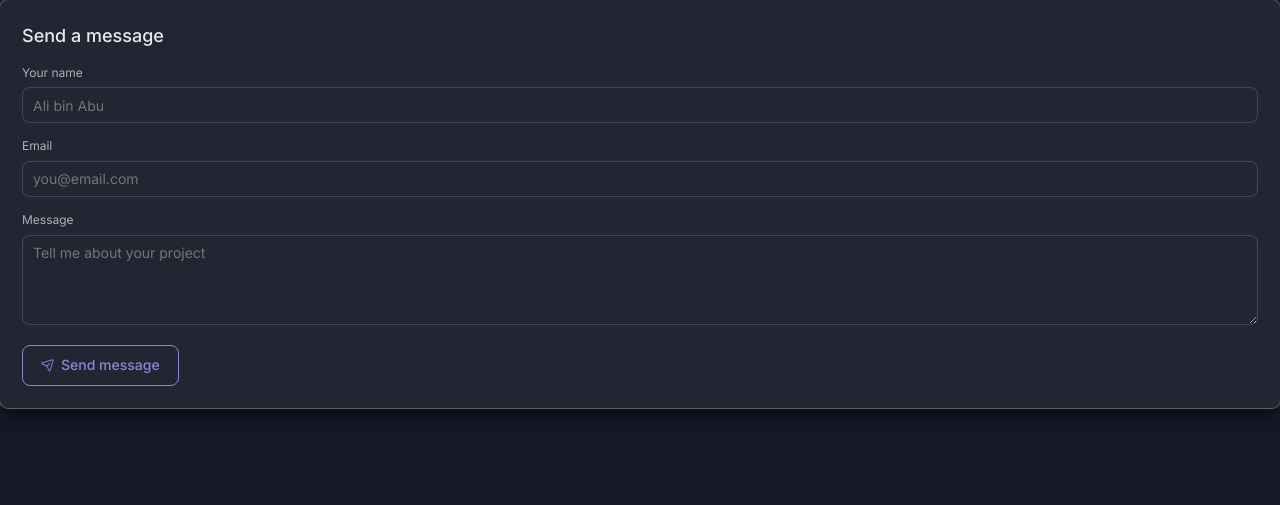
Scenario: ContactForm › clears a field's error when the visitor types in it
The image size is (1280, 505).
Click the button "Send message". click: (100, 365)
box: [22,345,179,386]
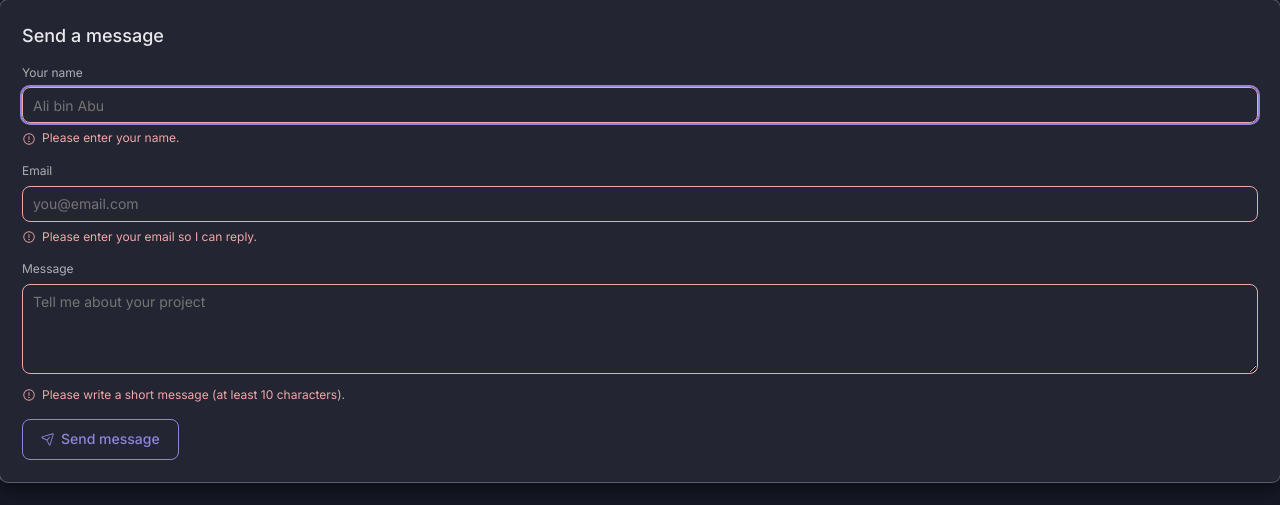
Type "A" into the field labelled "Your name". click: (640, 106)
box: [22,88,1258,124]
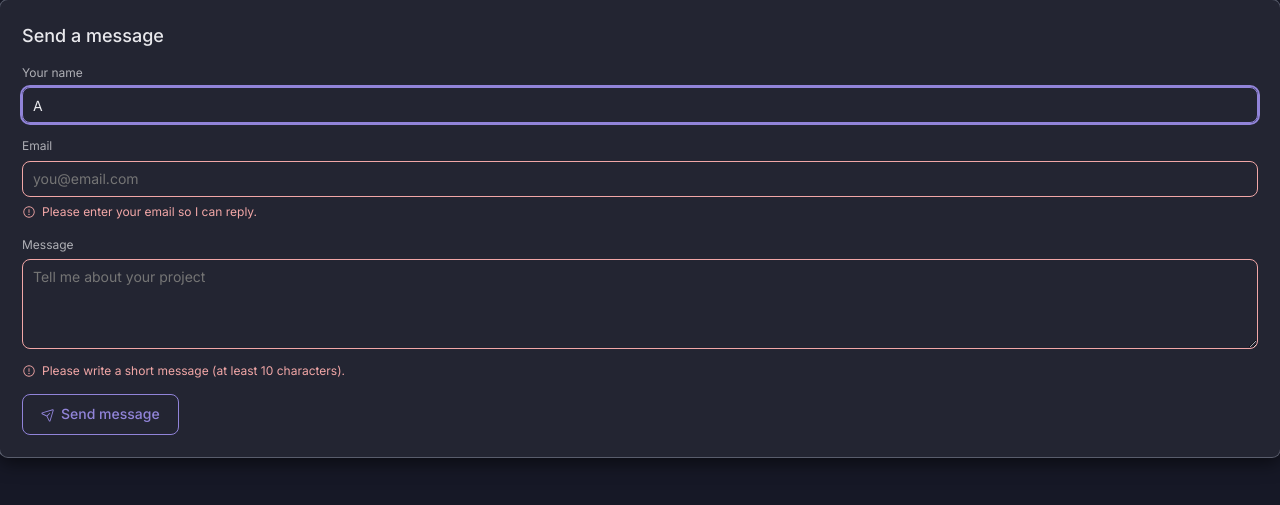
expect the text "Please enter your email so I can reply." is shown: met, box [22,204,257,219]
expect the text "Please enter your name." is gone: met
